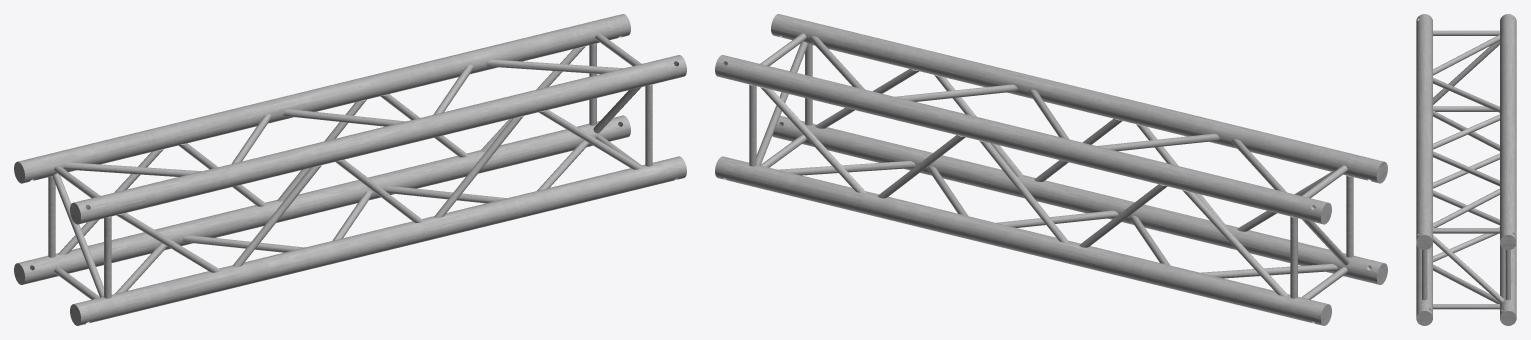
The model's file is Milos_M290V_1500_Quattro_Truss_section-16ececb5.glb.
3 renders of one model, left to right at view 1: azimuth 30°, elevation 25°; view 2: azimuth 150°, elevation 25°; view 3: azimuth 270°, elevation 25°, orthographic. The views are drawn at different scales.
Visible parts, largest first — view 1: Geom3D; view 2: Geom3D; view 3: Geom3D.
Boxes of the visible parts, x1,y1,x2,y2 form: Geom3D: (14,14,686,325); Geom3D: (715,14,1387,325); Geom3D: (1416,14,1516,325).
Size of the model in its own units: 1.5 by 0.288 by 0.288.
2 materials, 1 textured.
